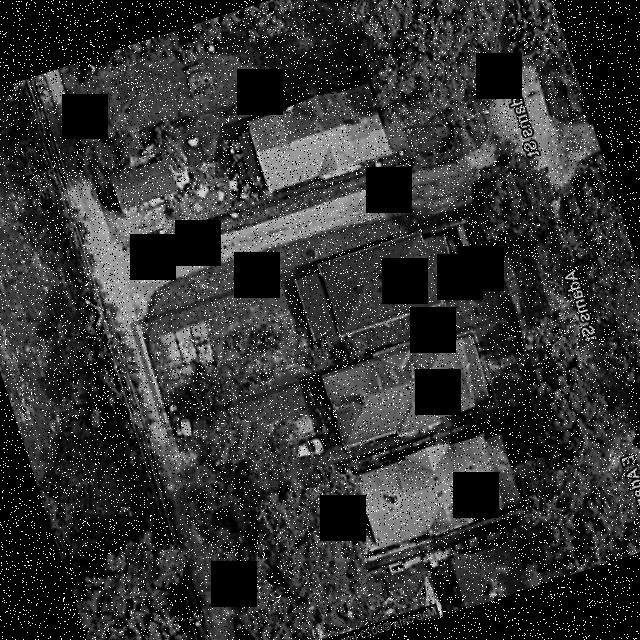Driveway: (430, 220, 476, 267), (474, 251, 486, 262), (488, 248, 498, 258)
Extra Driveway: (498, 253, 527, 313)
Extra Lawn: (145, 199, 494, 318), (509, 247, 548, 311), (490, 256, 517, 317)
House: (295, 235, 461, 340)
Other: (162, 323, 214, 376), (450, 253, 463, 275)
